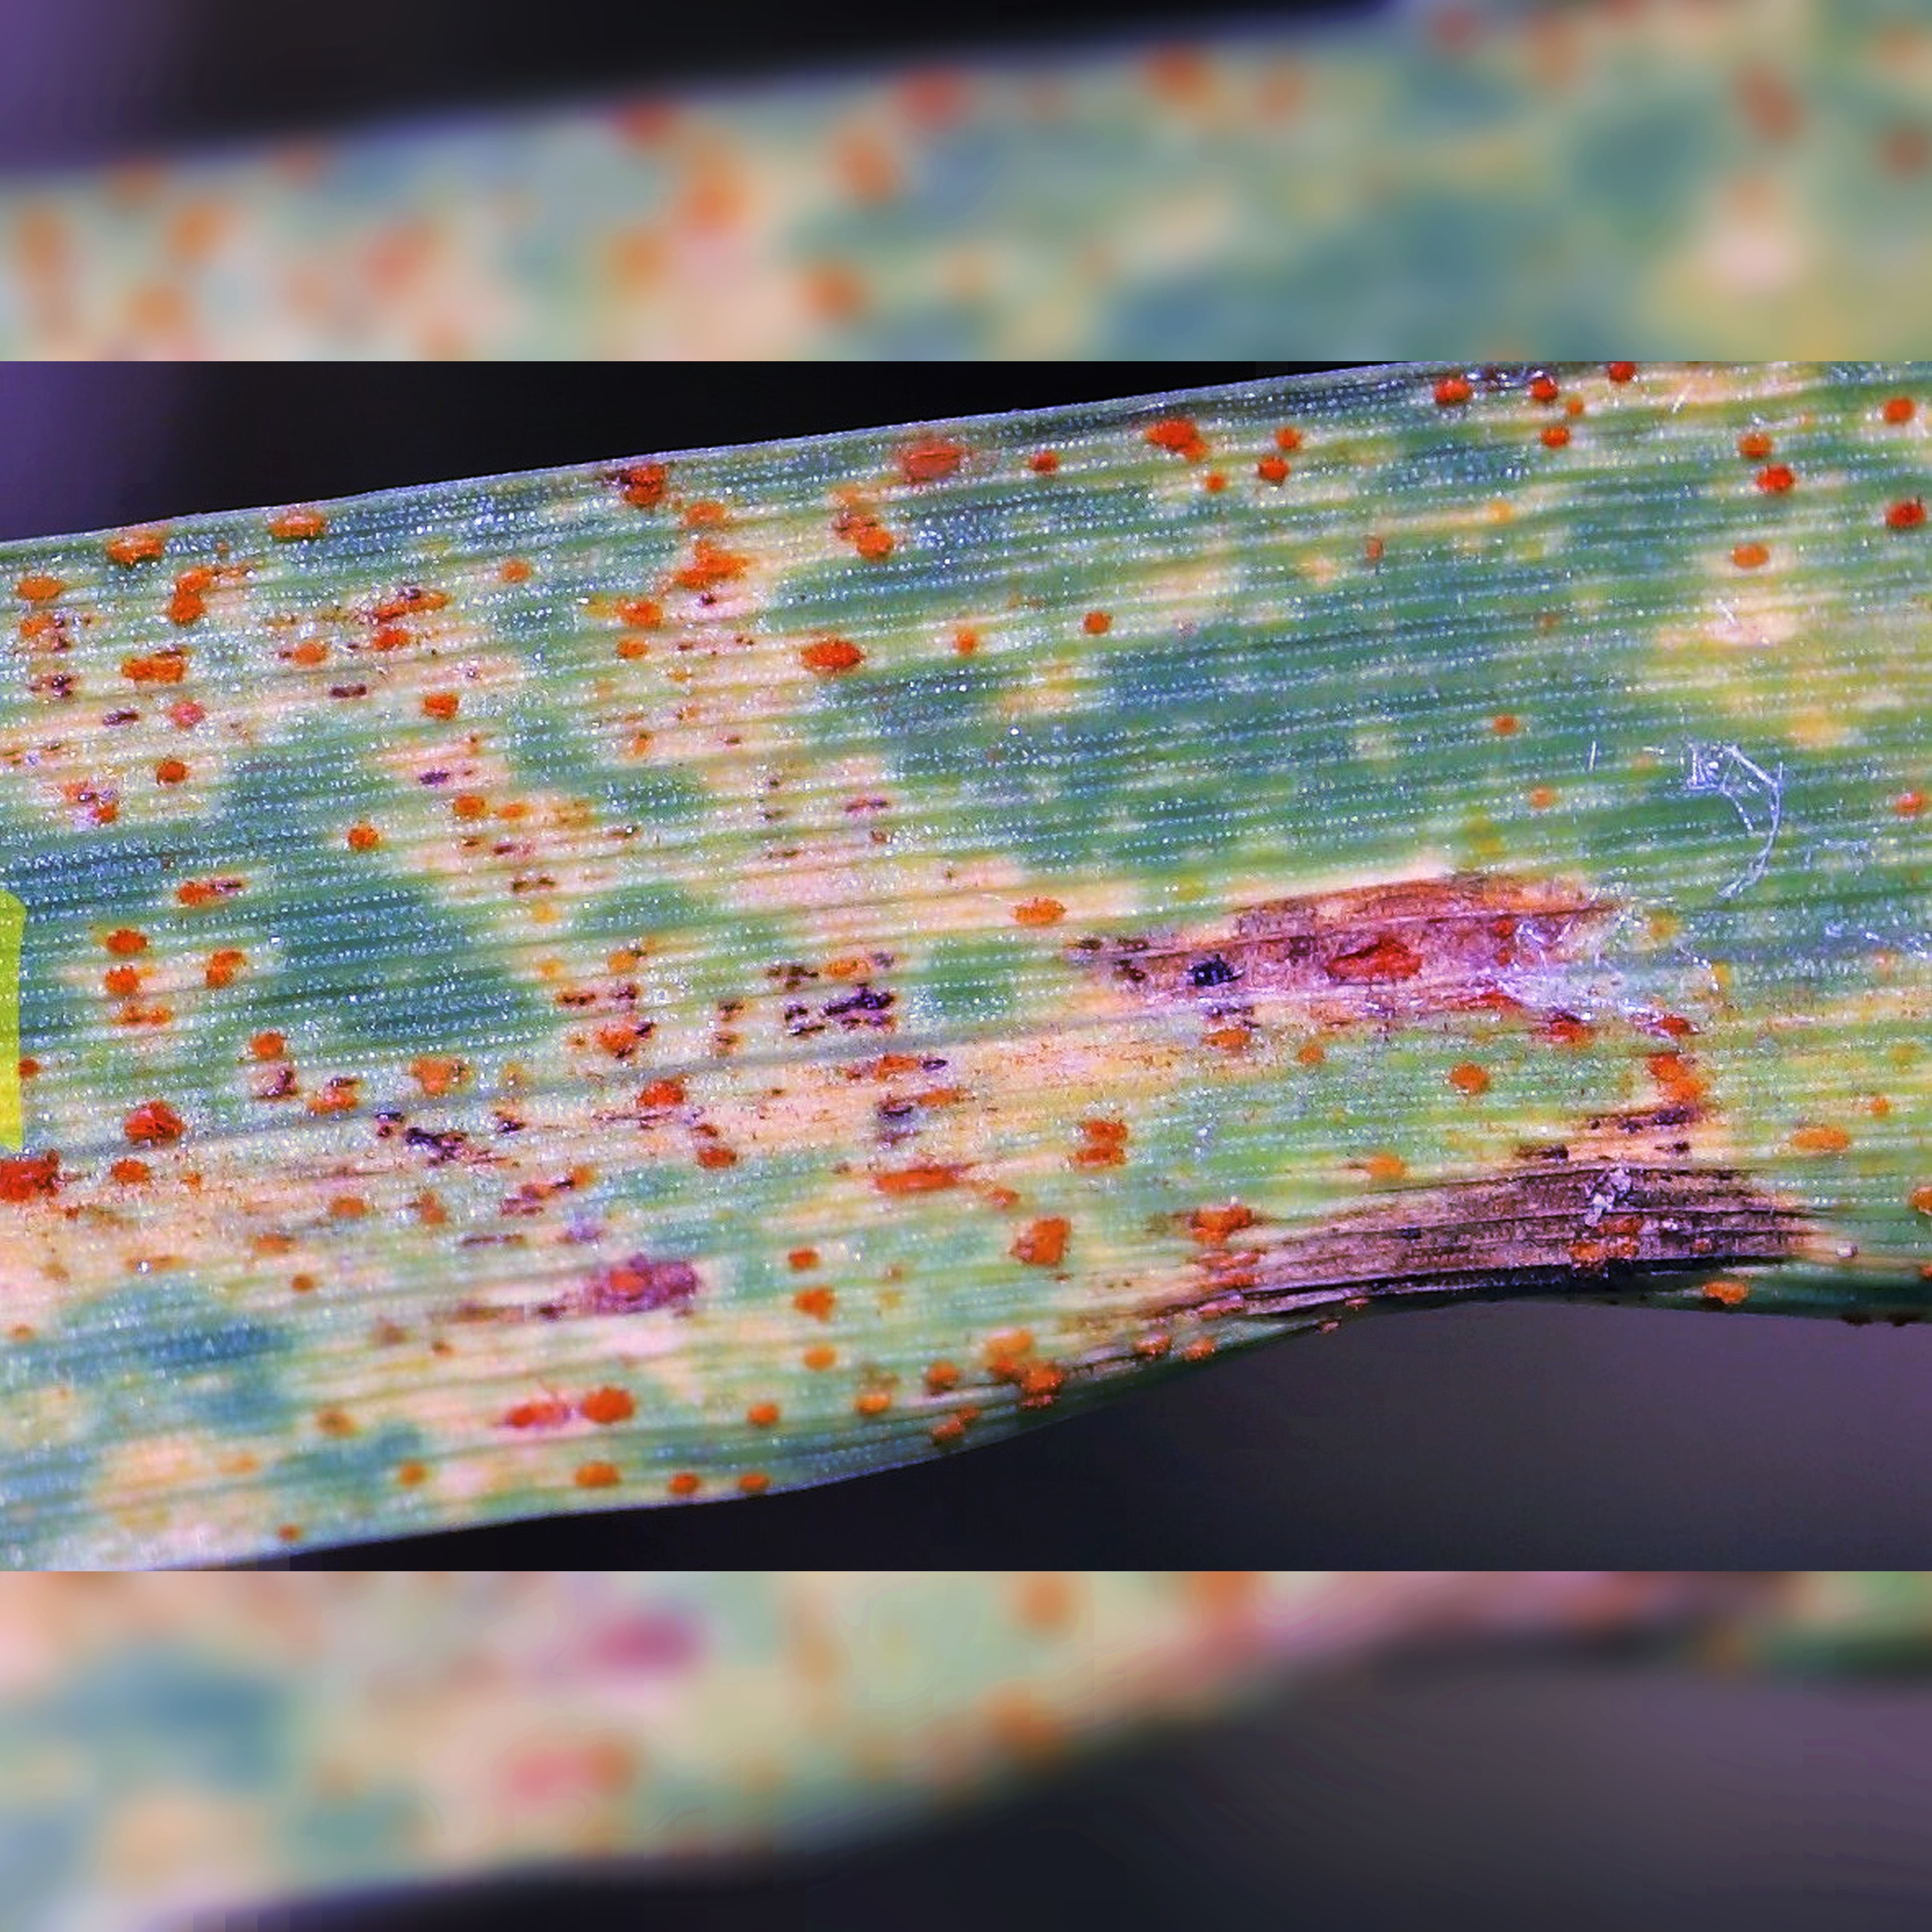Leaf Rust: (81, 354, 1640, 1476)
